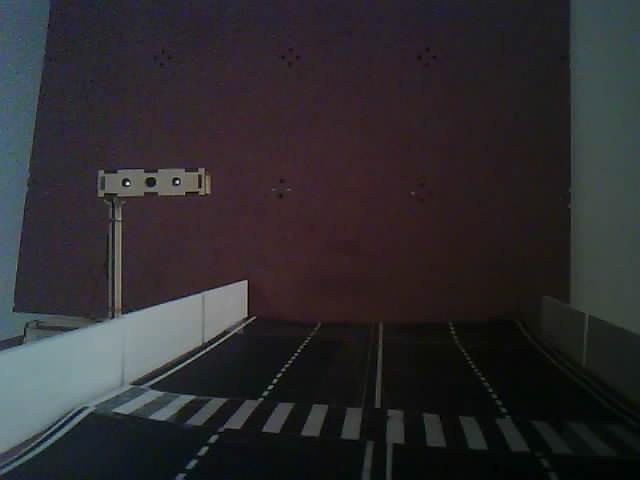crosswalk: (50, 370, 640, 480)
no: (86, 148, 243, 326)
